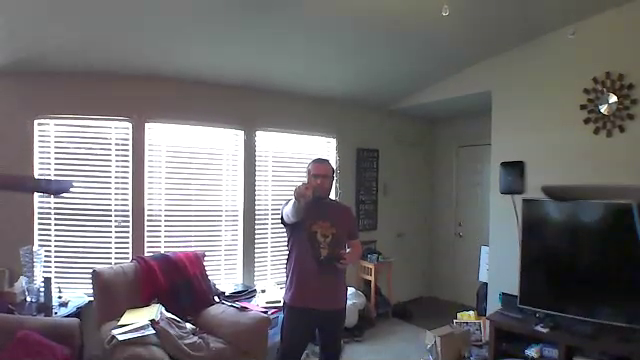up: (290, 170, 316, 210)
